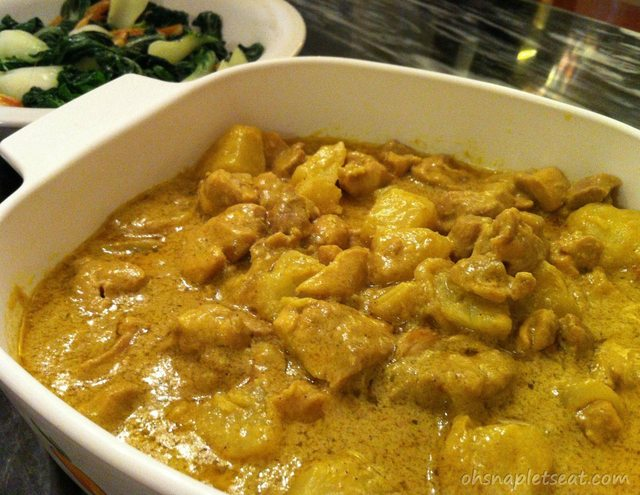chicken_curry: (87, 155, 628, 472)
